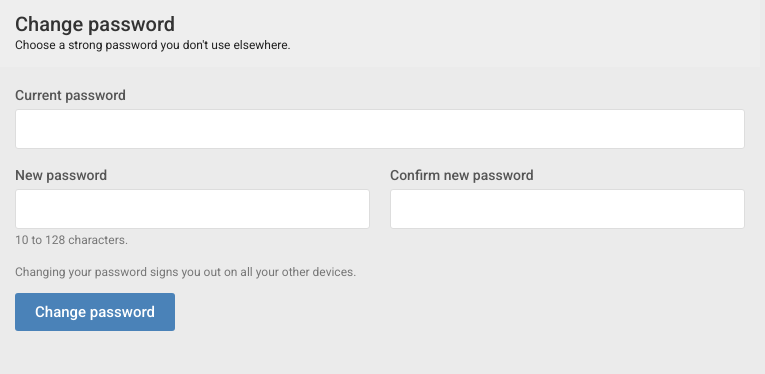
Test case: accepts an all-lowercase 10 character password, confirms and clears the form
The image size is (765, 374).
Type "old-password" into the password field labelled "Current password". click: (380, 129)
box: [15,109,745,149]
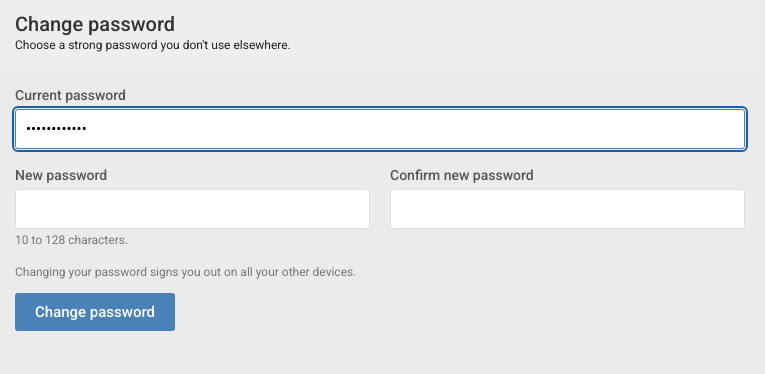
Type "abcdefghij" into the password field labelled "New password". click: (192, 209)
box: [15,189,370,229]
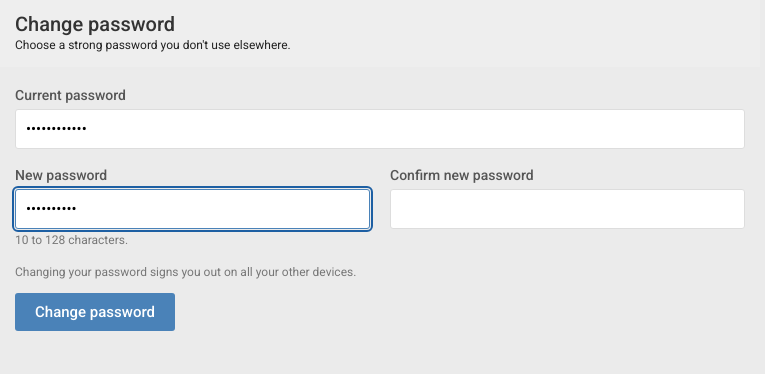
Type "abcdefghij" into the password field labelled "Confirm new password". click: (568, 209)
box: [390,189,745,229]
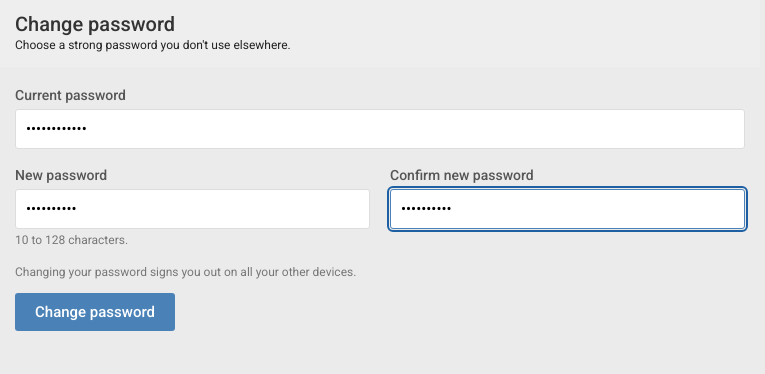
Click the button "Change password". click: (95, 312)
box: [15,293,175,331]
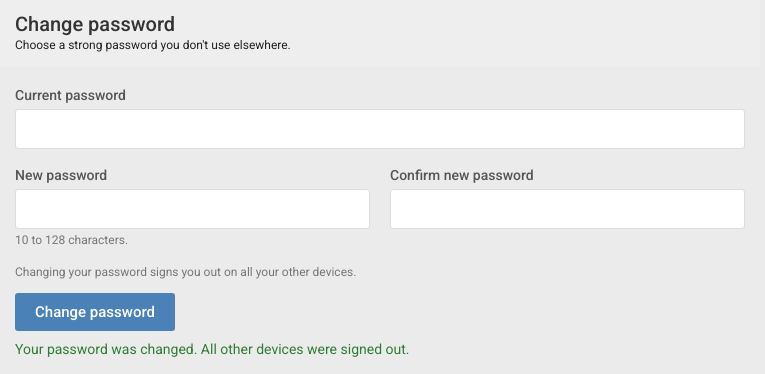
Result: the message reads "Your password was changed. All other devices were signed out." at [15,341,410,357]
Result: the password field labelled "Current password" is empty at [15,109,745,149]
Result: the password field labelled "New password" is empty at [15,189,370,229]
